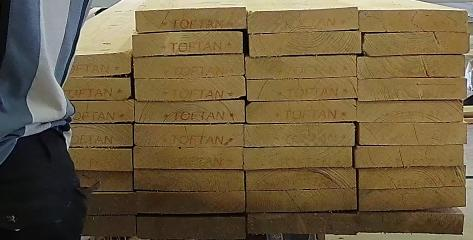Wood-Plank: (136, 6, 247, 32), (249, 8, 359, 33), (27, 215, 136, 240), (250, 33, 362, 57), (246, 55, 357, 79), (245, 123, 356, 147), (364, 31, 470, 56), (133, 33, 243, 57), (135, 77, 245, 101), (359, 122, 468, 146), (359, 77, 467, 101), (137, 216, 245, 240), (26, 124, 133, 148), (360, 187, 467, 211), (133, 55, 244, 78), (247, 190, 358, 213), (26, 193, 137, 216), (27, 52, 129, 77), (28, 99, 134, 123), (25, 148, 131, 172), (359, 9, 469, 32), (135, 101, 245, 124), (247, 100, 357, 123), (355, 145, 465, 168), (134, 124, 243, 147), (134, 147, 242, 170), (245, 147, 353, 170), (247, 79, 358, 101), (358, 100, 464, 123), (247, 168, 357, 190), (136, 193, 245, 215), (27, 77, 131, 100), (358, 57, 466, 79), (359, 167, 466, 189), (248, 214, 359, 235), (360, 212, 465, 234), (134, 171, 245, 191), (24, 172, 132, 191)
